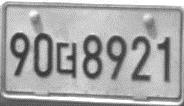0: (32, 31, 53, 79)
1: (155, 36, 172, 84)
2: (130, 34, 152, 82)
8: (81, 34, 103, 79)
9: (105, 35, 127, 82), (9, 32, 30, 77)
더: (55, 41, 78, 79)
